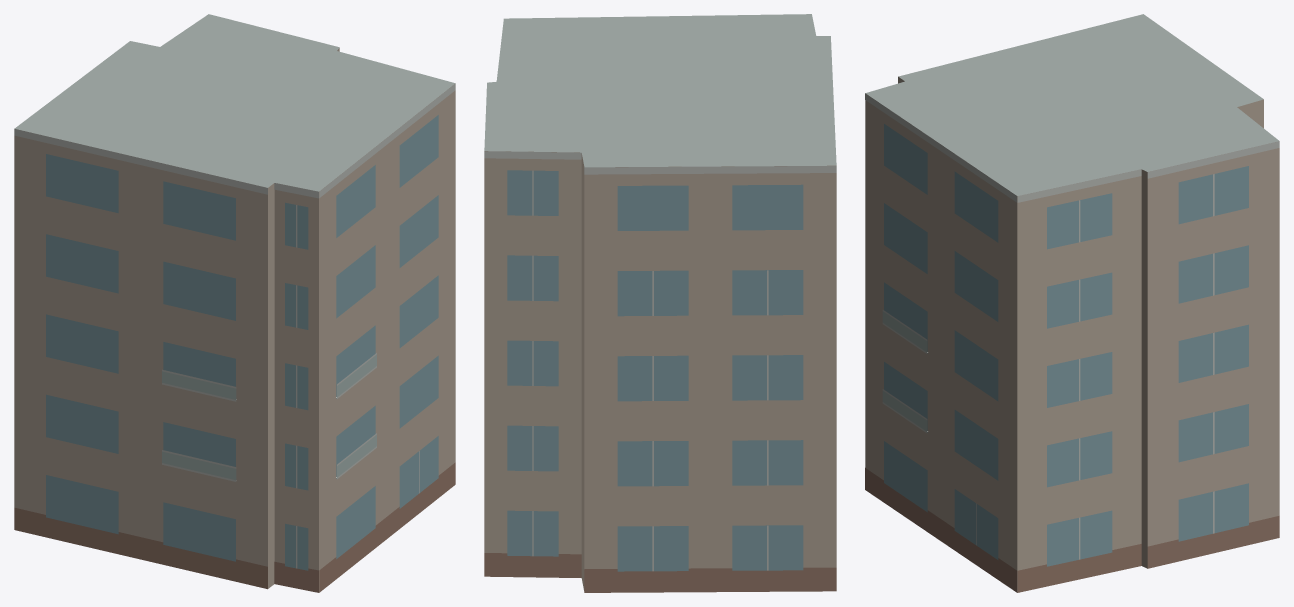
The model's file is survey-upis-32862819.glb.
3 renders of one model, left to right at view 1: azimuth 30°, elevation 25°; view 2: azimuth 150°, elevation 25°; view 3: azimuth 270°, elevation 25°, orthographic. The views are drawn at different scales.
Visible parts, largest first — view 1: survey-upis-32862819.tmp; view 2: survey-upis-32862819.tmp; view 3: survey-upis-32862819.tmp.
Boxes of the visible parts, left/top/right/bottom form: survey-upis-32862819.tmp: left=14, top=14, right=455, bottom=592; survey-upis-32862819.tmp: left=484, top=14, right=836, bottom=592; survey-upis-32862819.tmp: left=865, top=14, right=1279, bottom=592.
Bounding box in the file's own units: 14.09 × 14.3 × 13.55.
